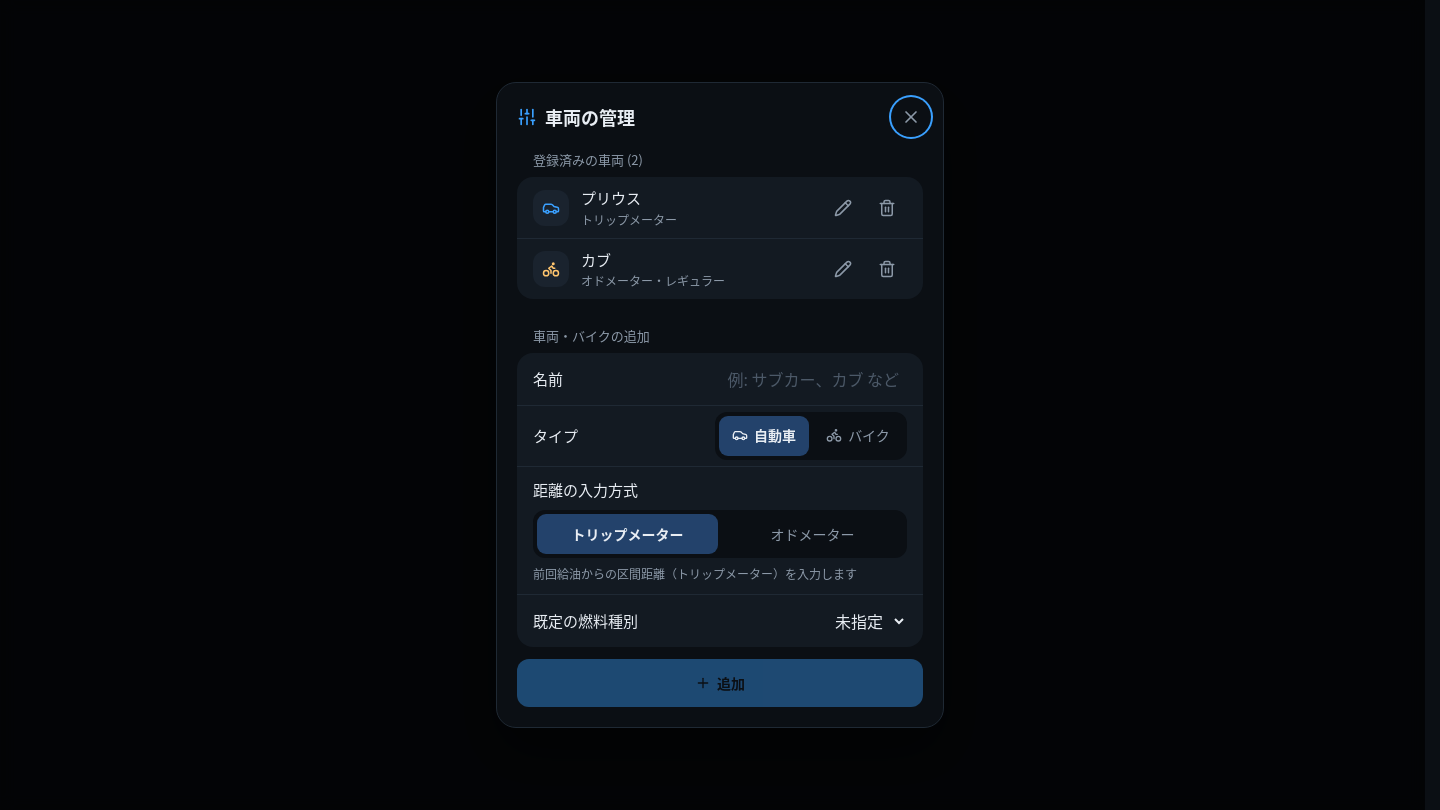
Test: ManageVehiclesModal › 編集 › 名前が空なら「保存」を押せない
Click the button named "「プリウス」を編集" at x=843, y=208, box [823,188,863,228]
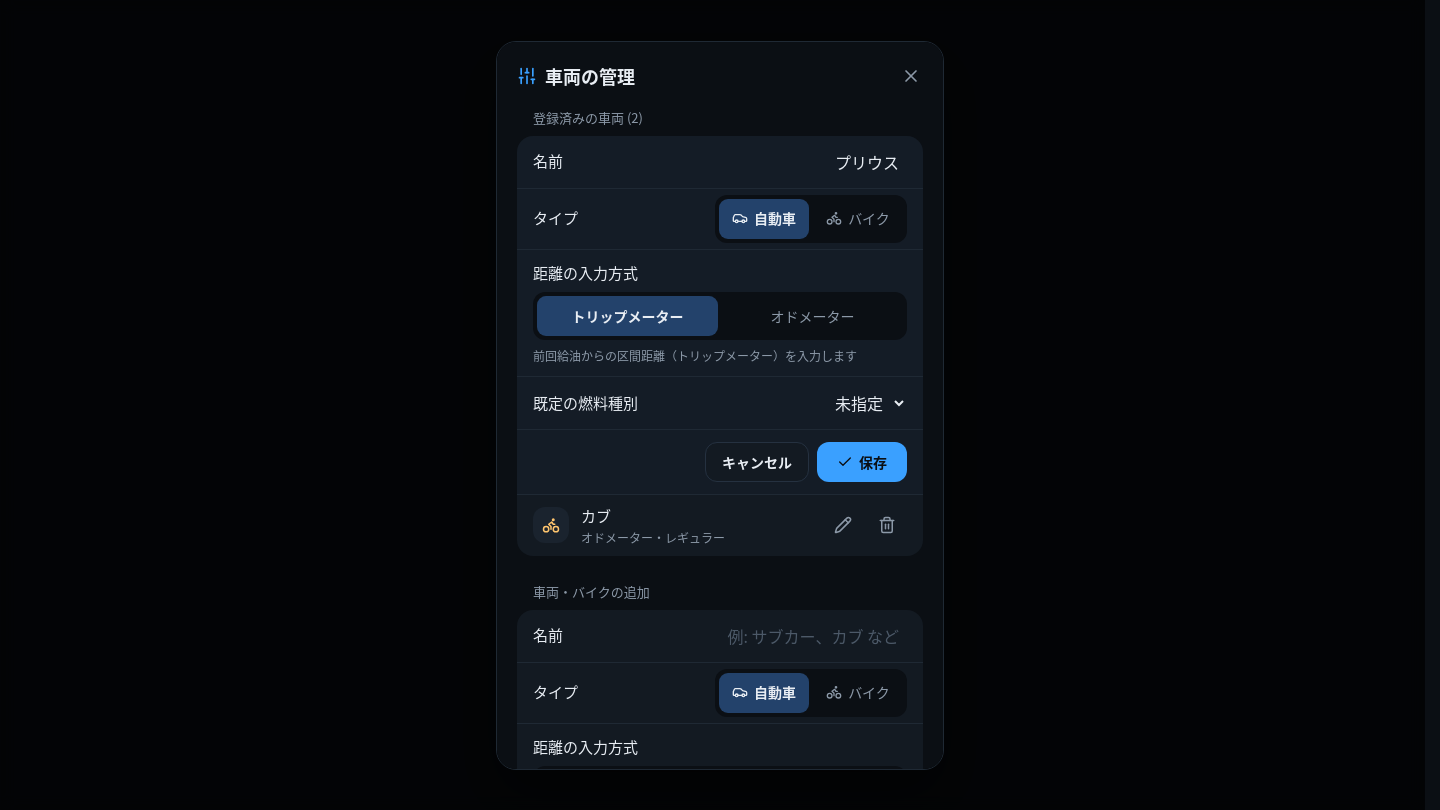
Clear the field named "車両の名前" at x=741, y=162, box [575,142,907,182]
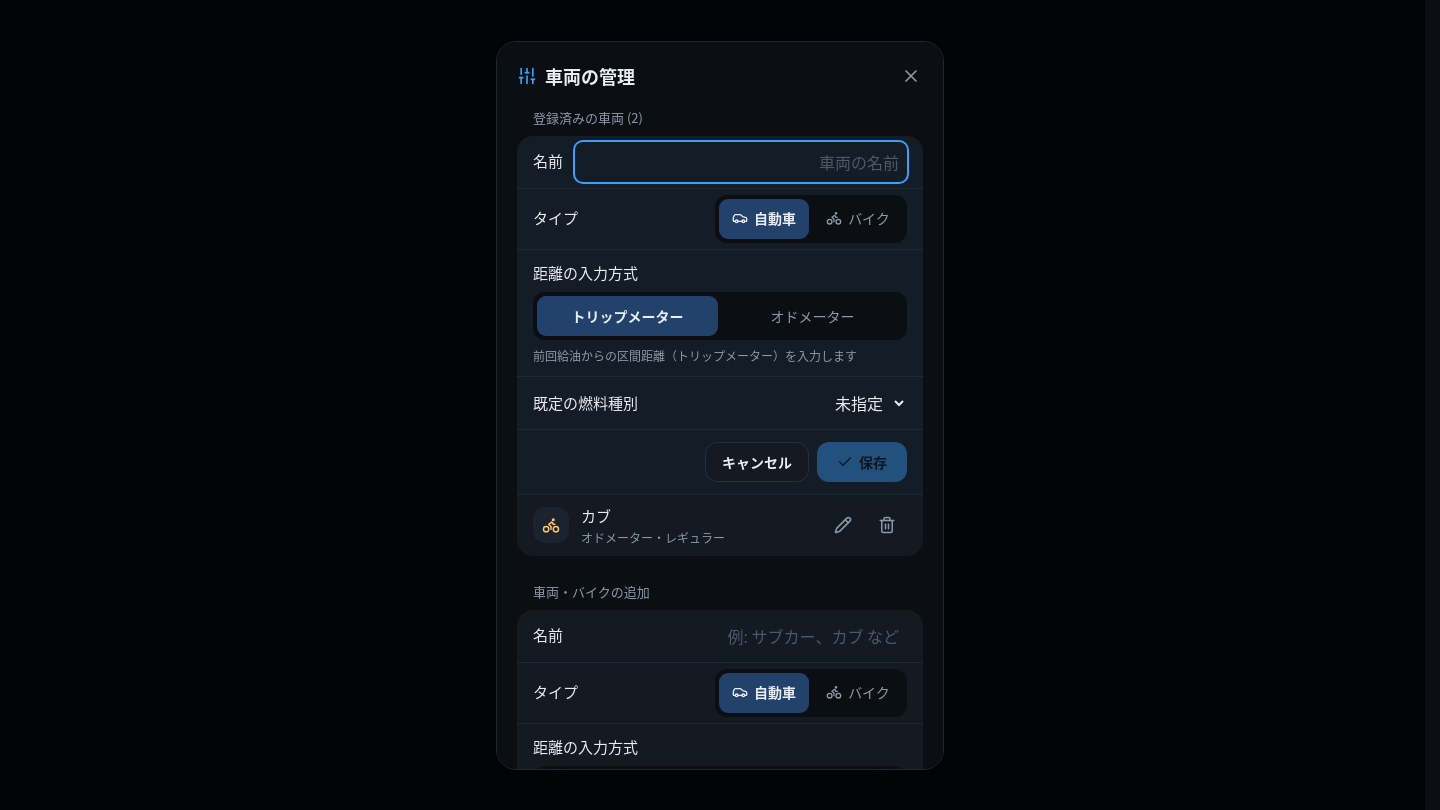
Result: the button "保存" is disabled at [817,442,907,482]
